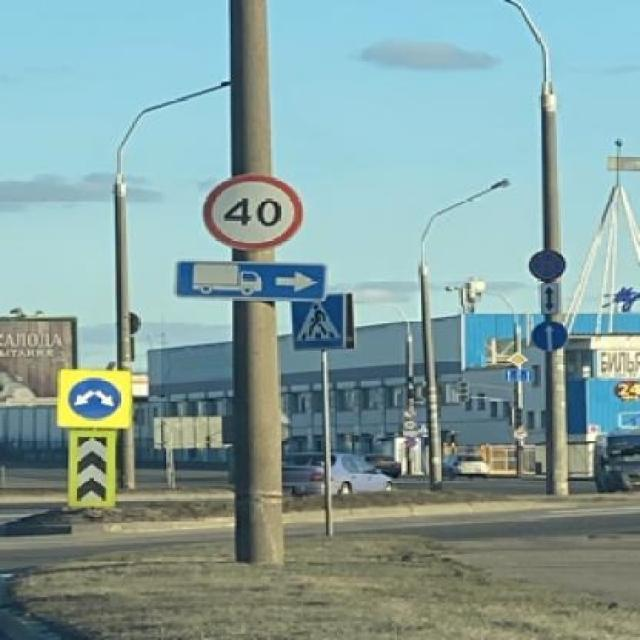forb_speed_over_40: (206, 175, 302, 250)
